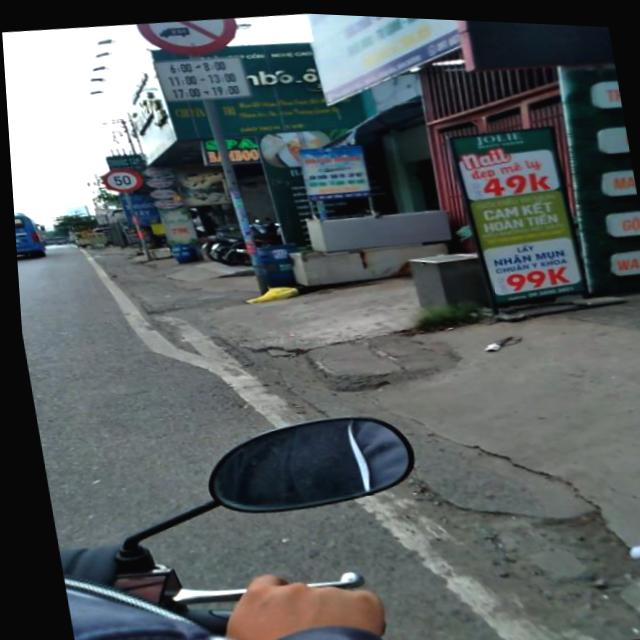Toc do toi da cho phep: (98, 164, 141, 194)
